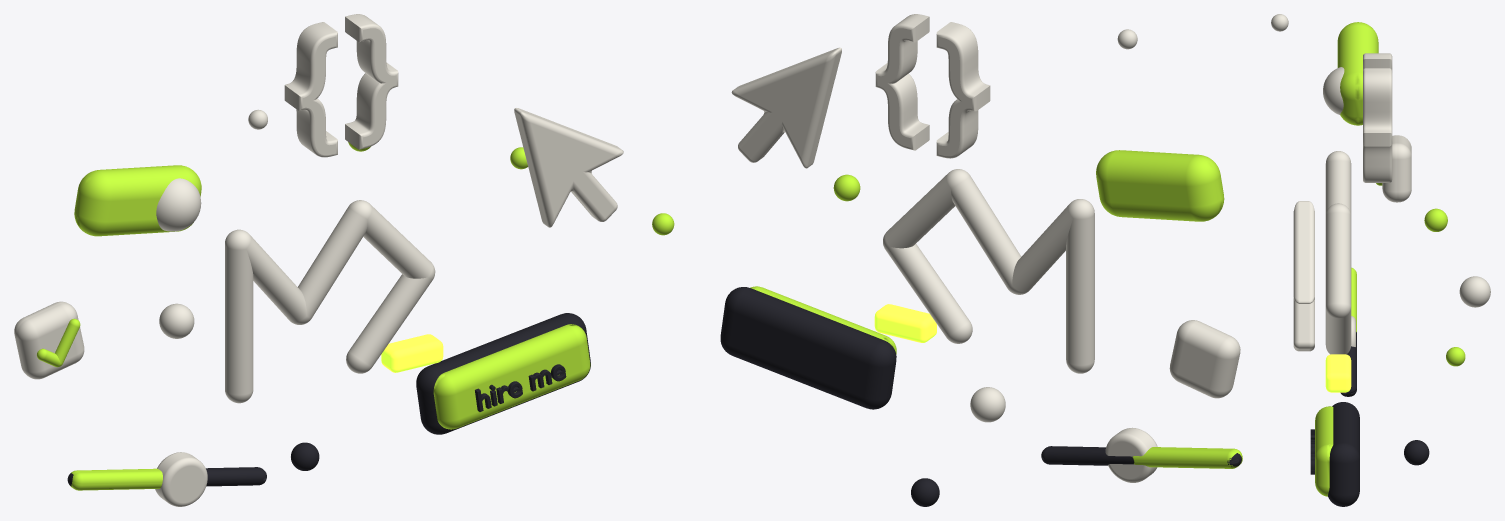
Rendered from ui-toys.glb.
3 renders of one model, left to right at view 1: azimuth 30°, elevation 25°; view 2: azimuth 150°, elevation 25°; view 3: azimuth 270°, elevation 25°, orthographic. The views are drawn at different scales.
Visible parts, largest first — view 1: Logo, ButtonCap, Cursor, Toggle, BraceR, BraceL, Button, Checkbox, SliderThumb, SliderFill, ToggleKnob, LogoCursor (+5 smaller); view 2: Logo, Button, Toggle, Cursor, BraceL, BraceR, Checkbox, SliderFill, LogoCursor, SliderThumb, Slider, Dot_1 (+2 smaller); view 3: Logo, BraceR, Cursor, Button, Toggle, ButtonCap, Checkbox, LogoCursor, Dot_1, ToggleKnob, Dot_4, BraceL (+5 smaller).
Boxes of the visible parts, left/top/right/bottom form: Logo: left=225, top=200, right=435, bottom=403; ButtonCap: left=433, top=324, right=590, bottom=429; Cursor: left=514, top=108, right=623, bottom=227; Toggle: left=74, top=165, right=201, bottom=236; BraceR: left=345, top=14, right=398, bottom=149; BraceL: left=284, top=22, right=337, bottom=157; Button: left=416, top=313, right=590, bottom=434; Checkbox: left=14, top=301, right=84, bottom=379; SliderThumb: left=155, top=452, right=207, bottom=506; SliderFill: left=70, top=468, right=162, bottom=490; ToggleKnob: left=156, top=178, right=201, bottom=231; LogoCursor: left=381, top=334, right=443, bottom=372; Logo: left=883, top=169, right=1094, bottom=373; Button: left=720, top=287, right=896, bottom=409; Toggle: left=1096, top=150, right=1224, bottom=221; Cursor: left=731, top=47, right=841, bottom=168; BraceL: left=936, top=22, right=990, bottom=158; BraceR: left=875, top=14, right=929, bottom=150; Checkbox: left=1169, top=320, right=1240, bottom=398; SliderFill: left=1132, top=447, right=1242, bottom=468; LogoCursor: left=874, top=304, right=936, bottom=342; SliderThumb: left=1105, top=427, right=1157, bottom=482; Slider: left=1041, top=446, right=1241, bottom=466; Dot_1: left=970, top=387, right=1005, bottom=422; Logo: left=1325, top=151, right=1351, bottom=354; BraceR: left=1363, top=68, right=1392, bottom=182; Cursor: left=1293, top=201, right=1314, bottom=351; Button: left=1328, top=402, right=1359, bottom=506; Toggle: left=1337, top=22, right=1378, bottom=125; ButtonCap: left=1315, top=406, right=1333, bottom=496; Checkbox: left=1382, top=135, right=1411, bottom=202; LogoCursor: left=1325, top=354, right=1351, bottom=392; Dot_1: left=1459, top=276, right=1490, bottom=307; ToggleKnob: left=1323, top=67, right=1344, bottom=114; Dot_4: left=1404, top=440, right=1429, bottom=465; BraceL: left=1363, top=53, right=1392, bottom=71.
Size of the model in its own units: 5.79 by 4.59 by 2.25.
